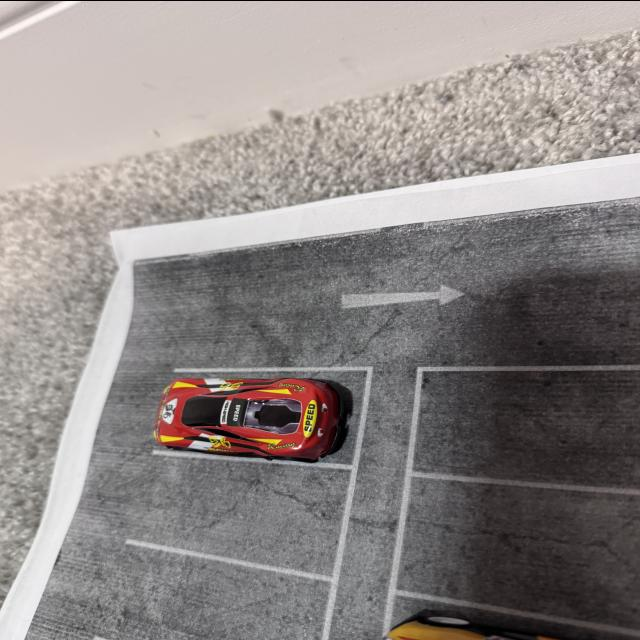car: (124, 356, 380, 494)
